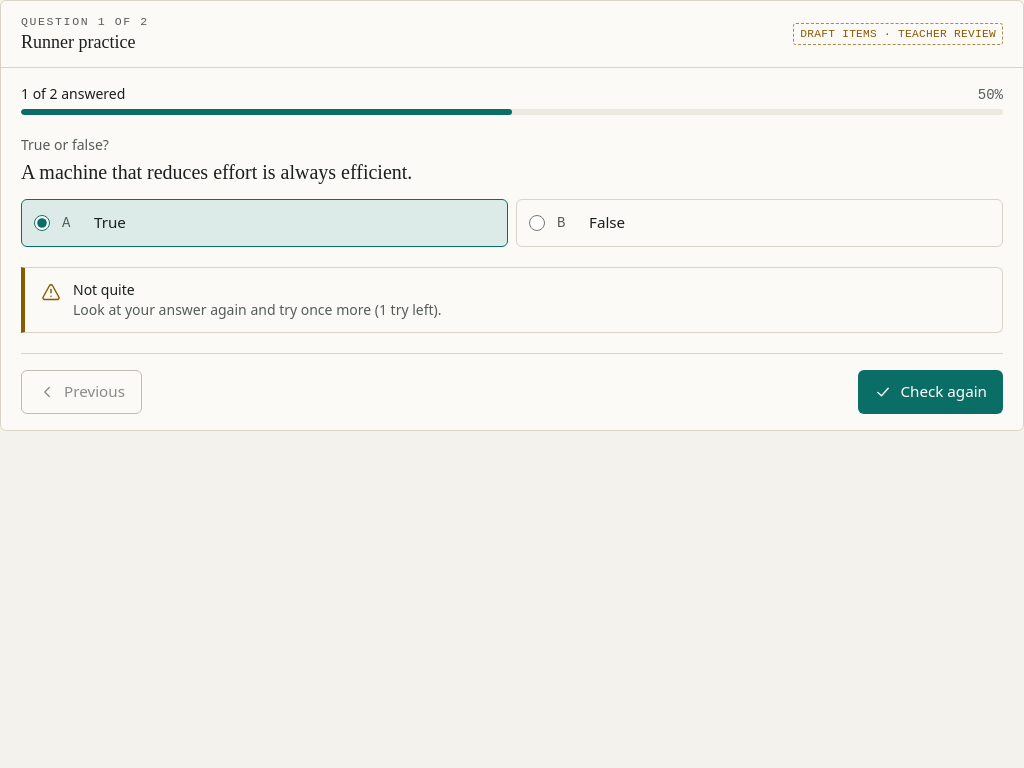
Test: AssessmentRunner, practice mode › gives feedback, allows one retry, then shows the answer; scores first-try answers only
Earlier steps of the test are not shown.
Expected: the text "Not quite" is shown, 73,280 -> 135,298
Expected: the text "Explained here." is not shown
Click the button "Check again": (931,392) 858,370 -> 1003,414
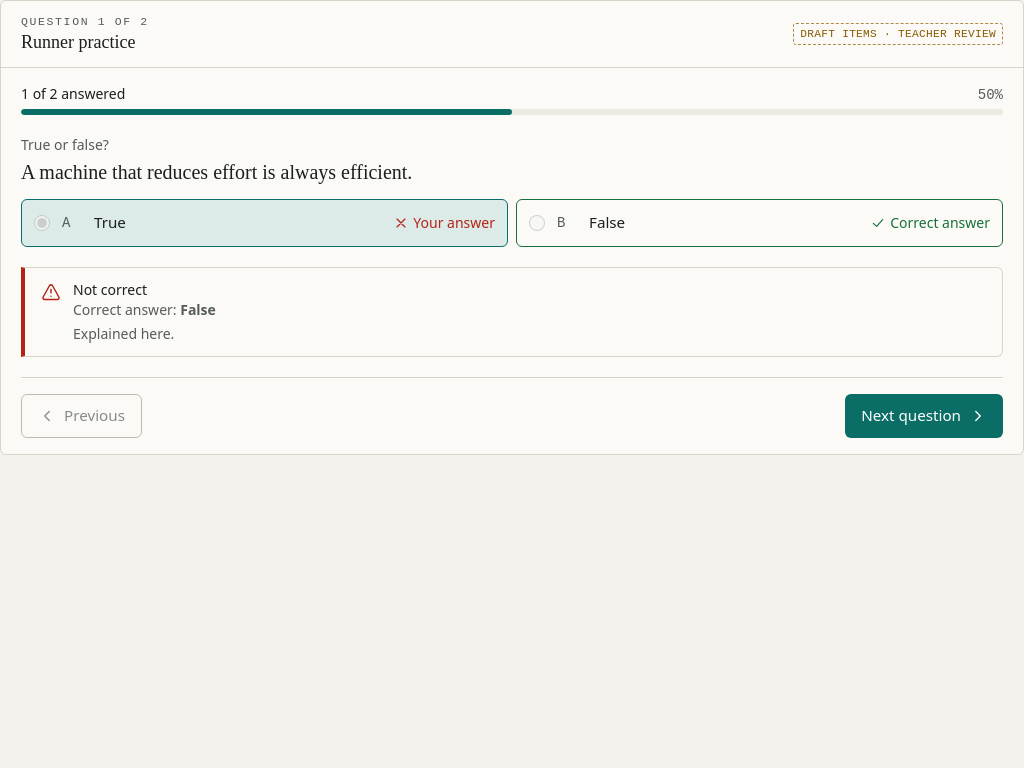
Expected: the text "Not correct" is shown, 73,280 -> 147,298
Expected: the text "Explained here." is shown, 73,324 -> 174,342
Expected: the radio button labelled "A True Your answer" is disabled, 34,214 -> 50,230
Click the button "Next question": (924,416) 845,394 -> 1003,438
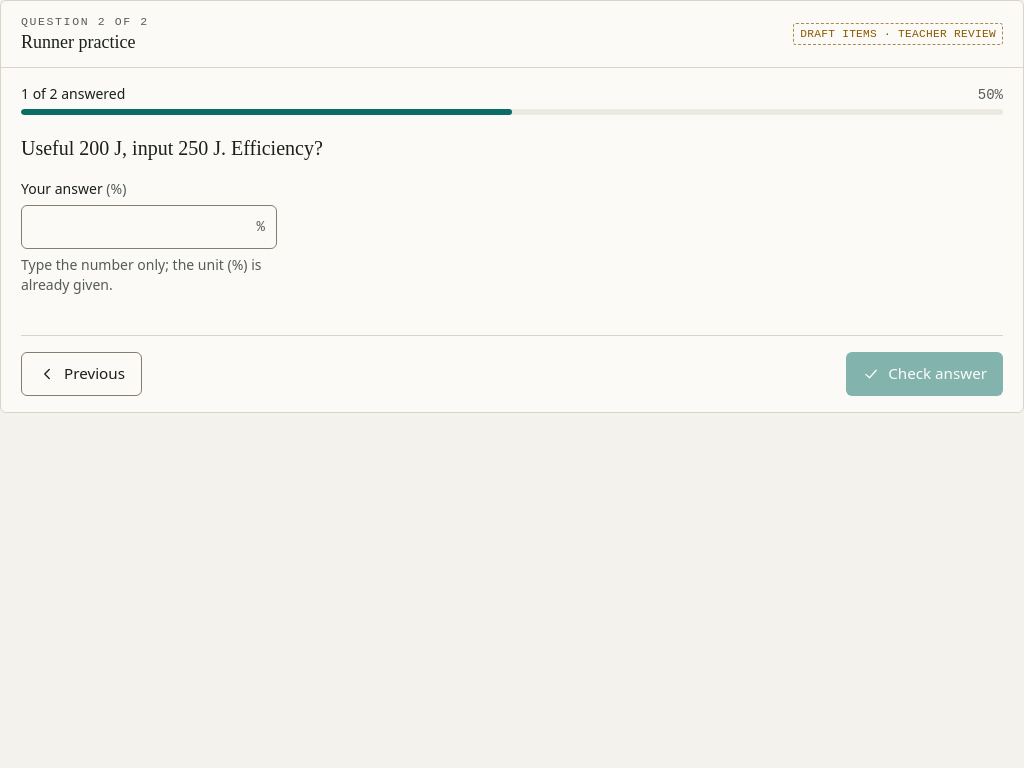
In the field labelled "Your answer (%)": (149,226) 21,204 -> 277,248, type "80 %"
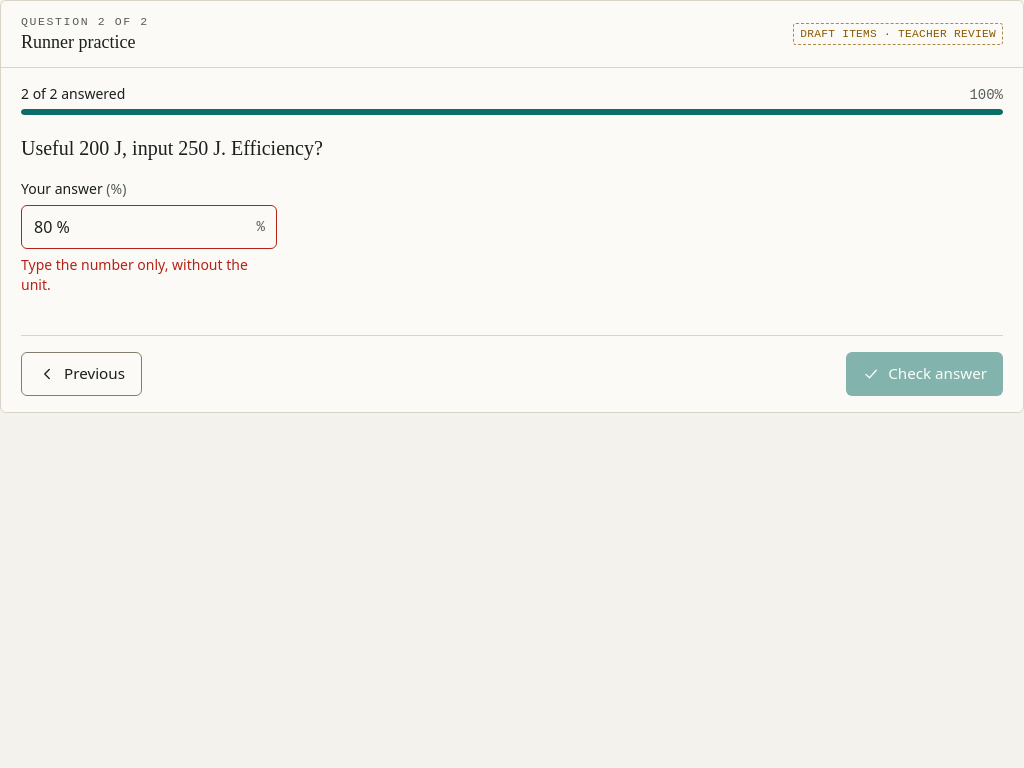
Expected: the button "Check answer" is disabled, 846,352 -> 1003,396
Expected: the text "Type the number only, without the unit." is shown, 21,254 -> 277,294
Replace the text in the field labelled "Your answer (%)" with "80.4": (149,226) 21,204 -> 277,248
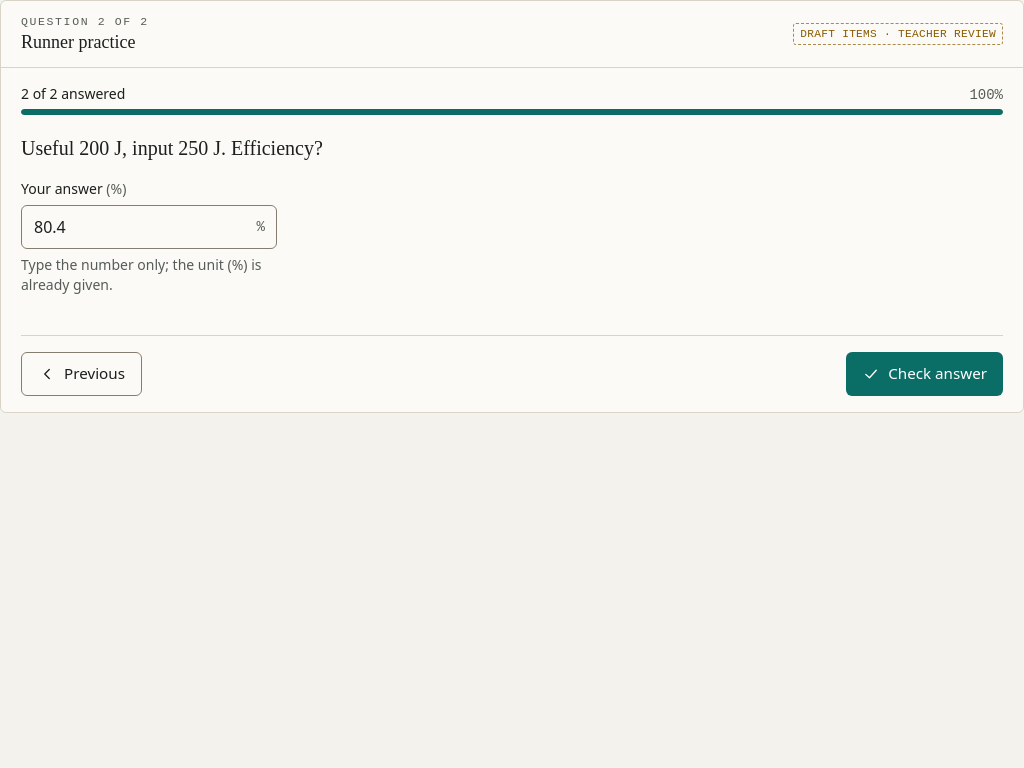
Click the button "Check answer": (925,374) 846,352 -> 1003,396
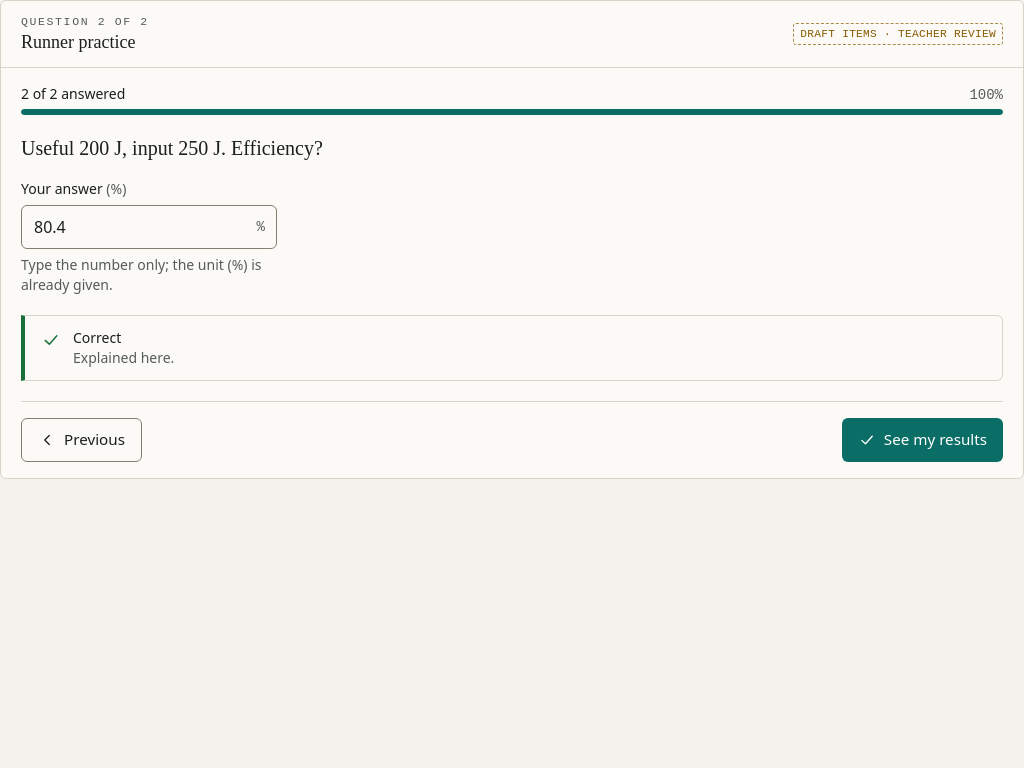
Expected: the text "Correct" is shown, 73,328 -> 121,346
Click the button "See my results": (922,440) 842,418 -> 1003,462
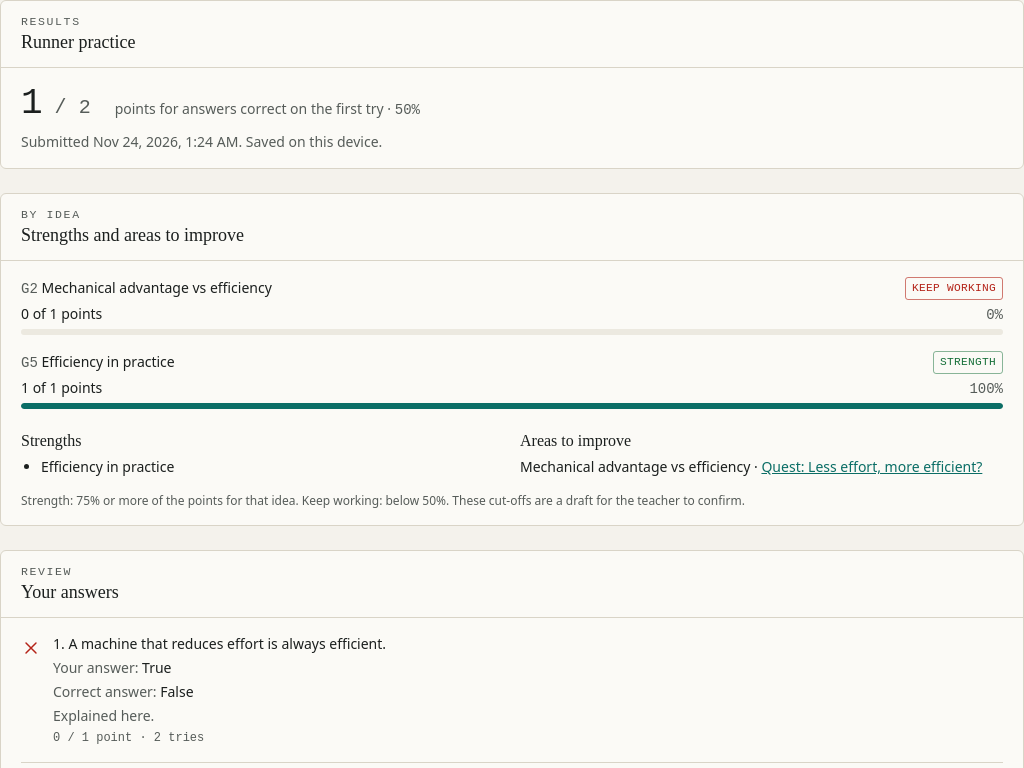
Expected: the heading "Strengths and areas to improve" is shown, 21,223 -> 244,248
